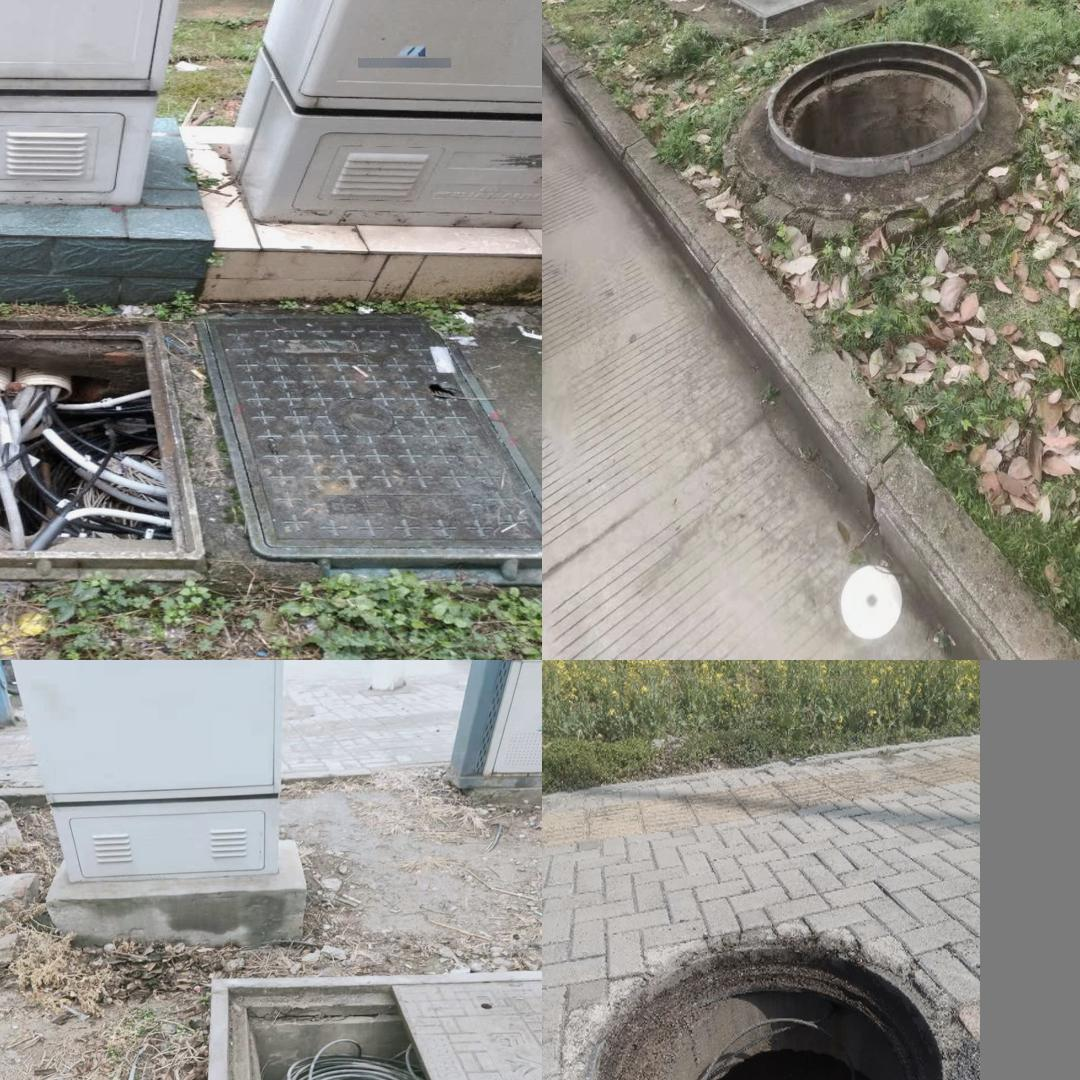good: (201, 312, 534, 581), (683, 0, 879, 33)
lose: (0, 329, 206, 583), (581, 941, 946, 1080), (200, 970, 540, 1080), (763, 37, 988, 178)
